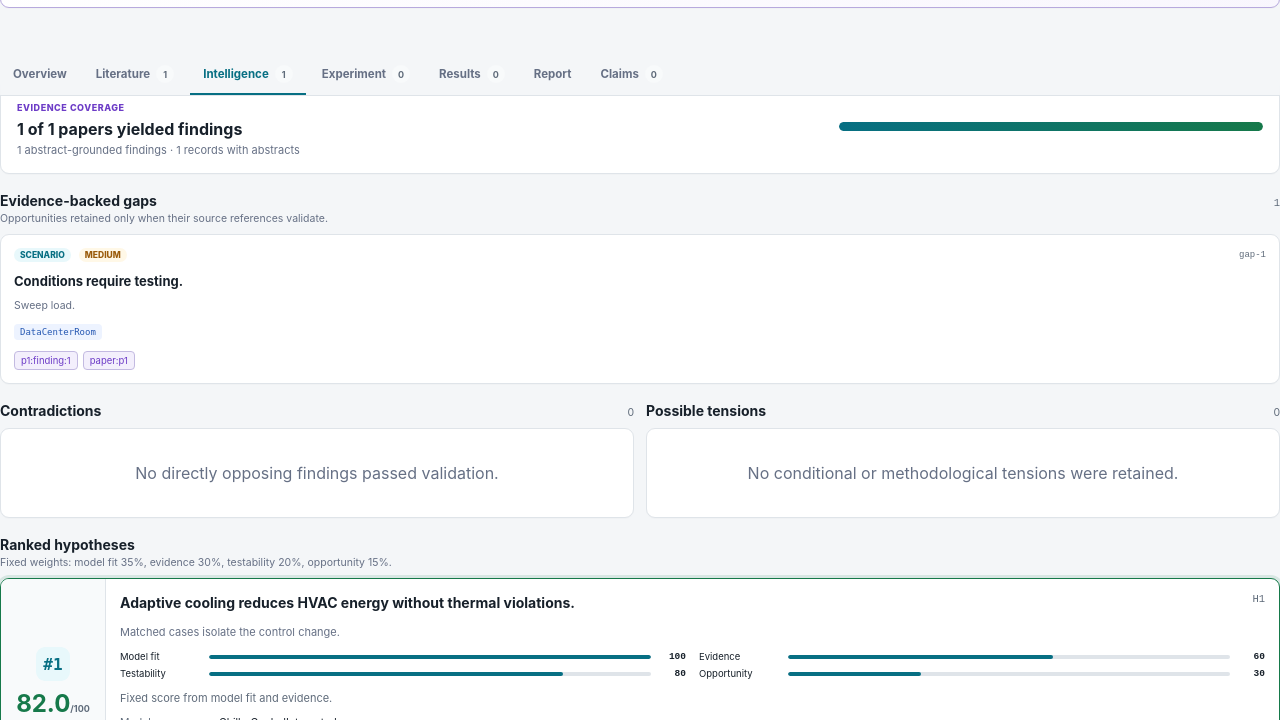
RunDetail › shows ranked research intelligence and opens source-grounded findings
The image size is (1280, 720).
(page scrolled)
Expected: the heading "Evidence-backed gaps" is shown, [0,192,157,209]
Expected: the text "82.0" is shown, [16,689,70,718]
Click the button "p1:finding:1" at (46, 360), box [14,351,78,370]
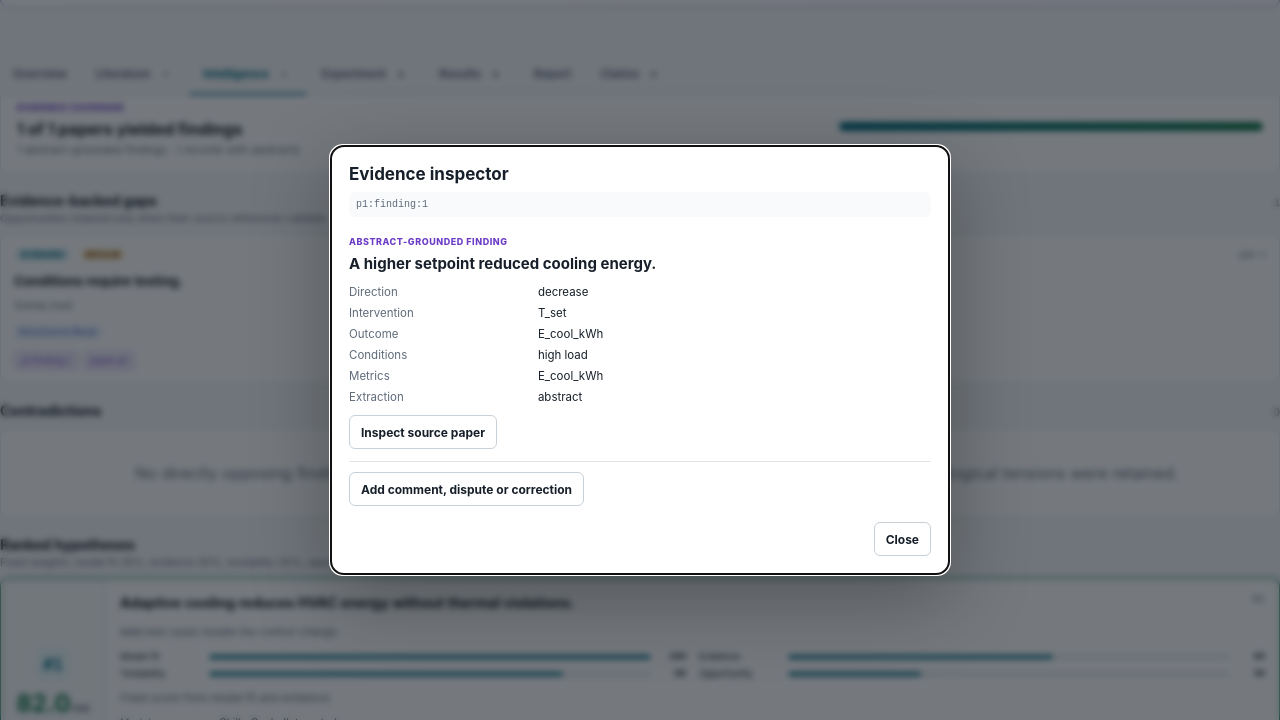
Expected: the heading "A higher setpoint reduced cooling energy." is shown, [349,254,656,273]
Expected: the text "Abstract-grounded finding" is shown, [349,236,508,247]
